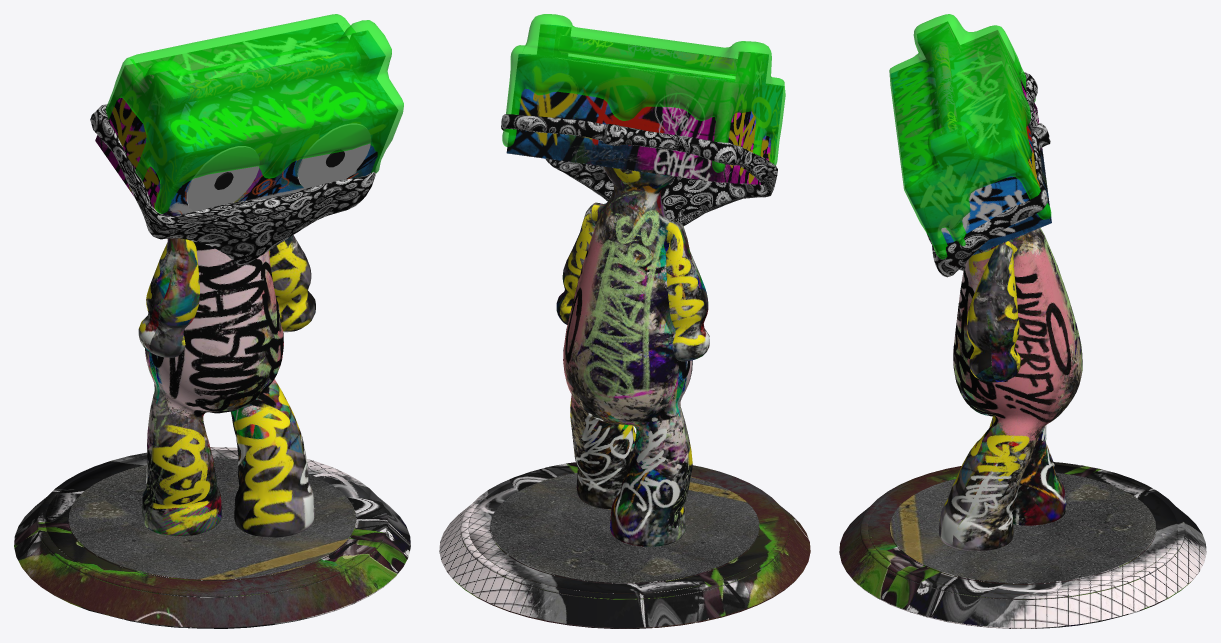
The picture shows the model from 3 angles, left to right: view 1: azimuth 30°, elevation 25°; view 2: azimuth 150°, elevation 25°; view 3: azimuth 270°, elevation 25°; orthographic projection. The views are drawn at different scales.
Visible parts, largest first — view 1: BBody; view 2: BBody; view 3: BBody.
Part boxes in pixels (x1,y1,x2,y2): BBody: [14, 14, 410, 628]; BBody: [439, 14, 810, 628]; BBody: [839, 14, 1206, 628].
Bounding box in the file's own units: 1.45 × 2.15 × 1.45.
Materials: 8 (5 with a texture image).
